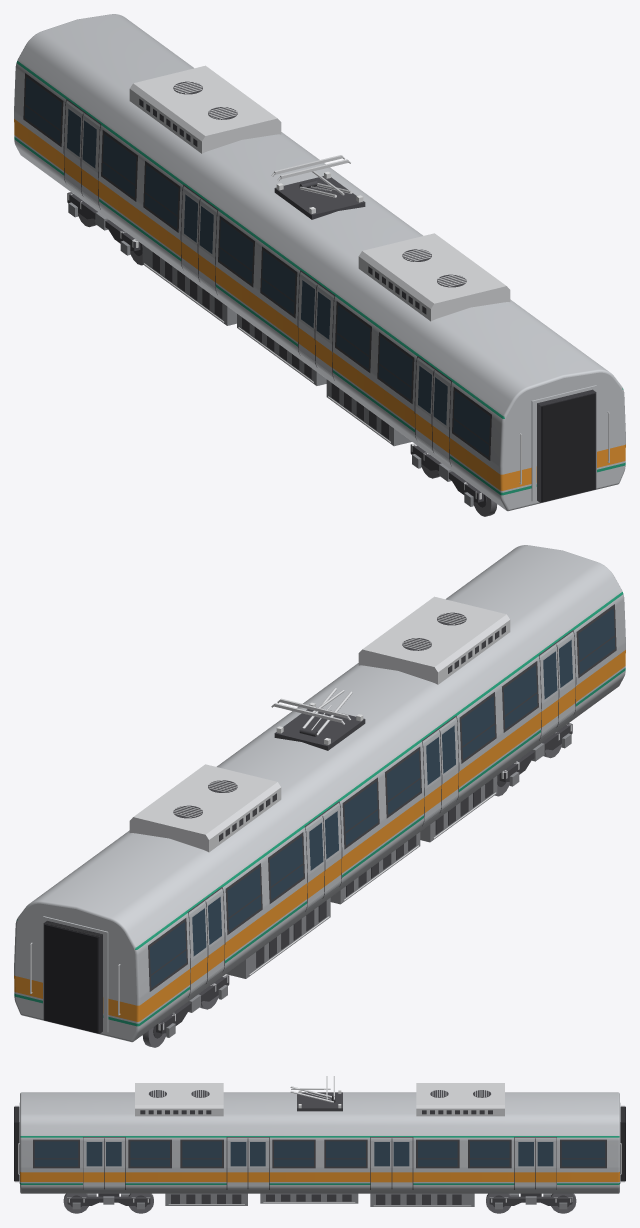
Rendered from 329_close.fbx.
3 renders of one model, top to bottom at view 1: azimuth 30°, elevation 25°; view 2: azimuth 150°, elevation 25°; view 3: azimuth 270°, elevation 25°, orthographic. The views are drawn at different scales.
Parts seen in each view (by area): view 1: 329_close; view 2: 329_close; view 3: 329_close.
Part boxes in pixels (<box>): 329_close: <box>14,14,625,516</box>; 329_close: <box>14,545,625,1047</box>; 329_close: <box>14,1076,625,1213</box>.
Size of the model in its own units: 2.95 by 4.2 by 20.
